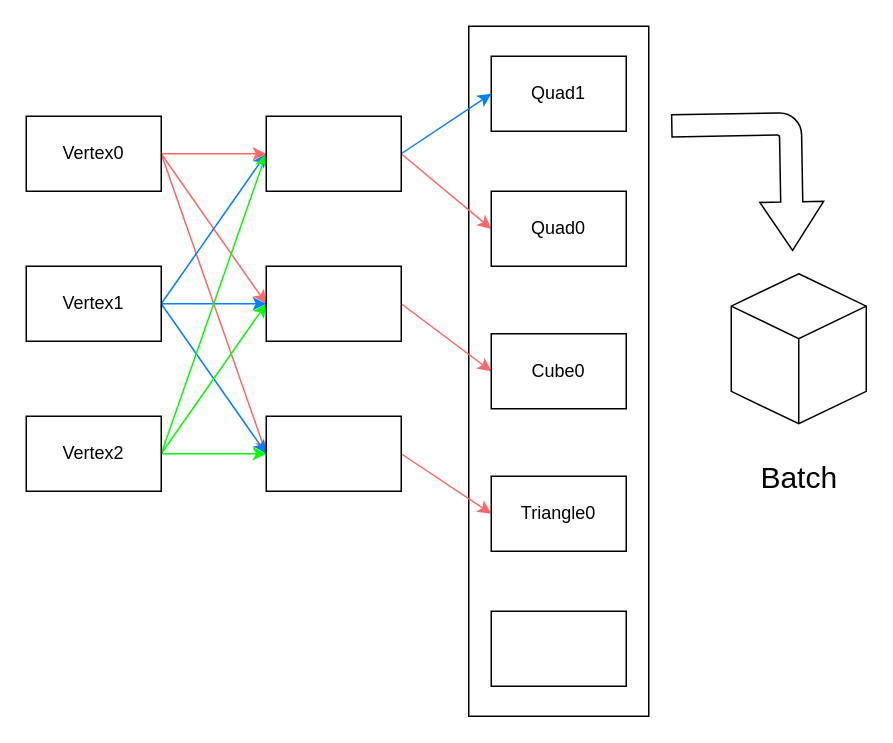
Some shapes in this 893 by 743 pixel diagram are drawn without their labels. The centre of each missing label's shape, as x and y in pixels:
Cube: pixel 333 303
Other BatchUnit: pixel 558 648
Quad: pixel 333 153
Triangle: pixel 333 453
